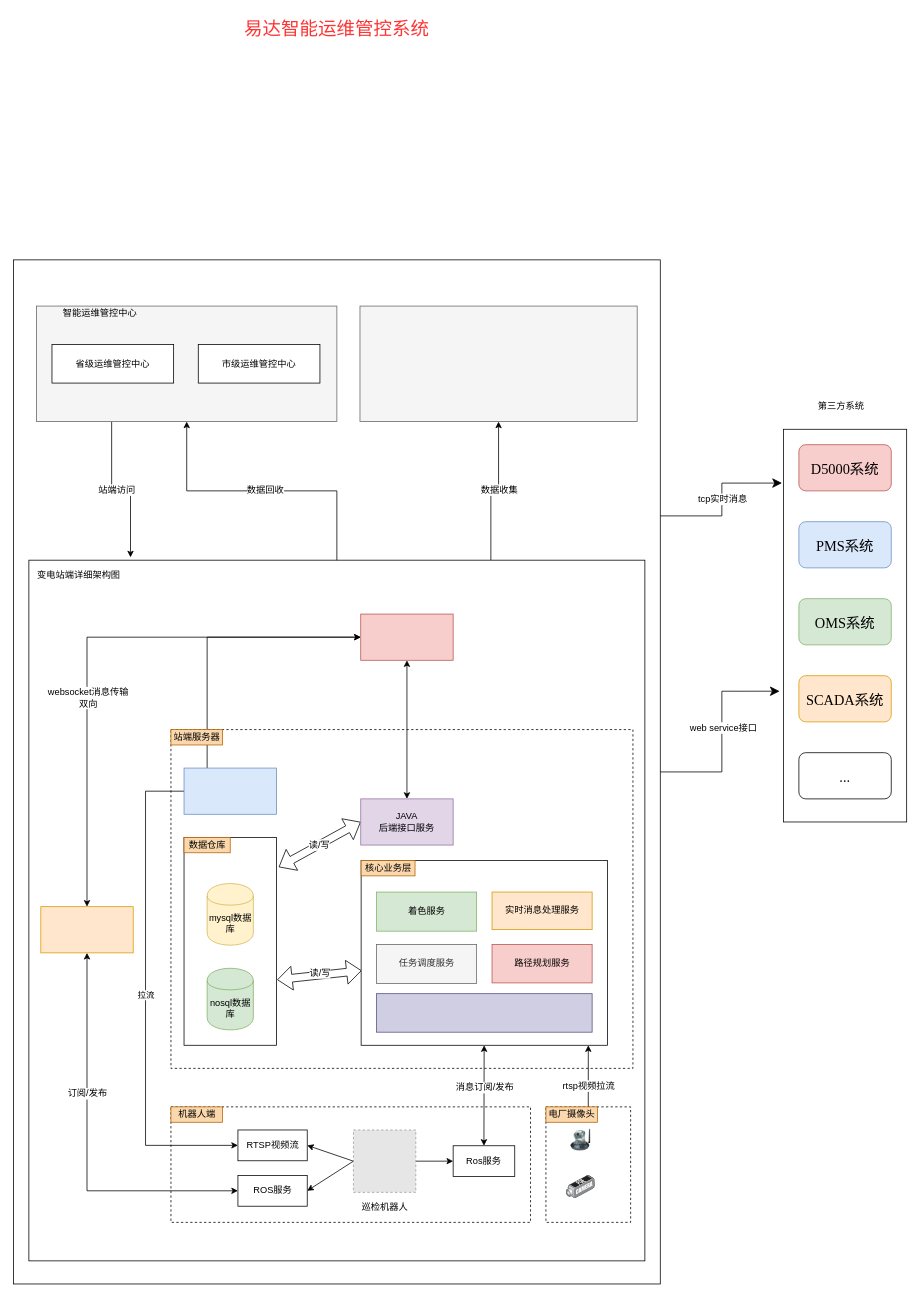
The diagram is 920 pixels wide and 1297 high, and some of its shapes have lost their labels. Grey dashed boxes stand in for pictures. The shapes that lost their labels are listed below. From the top down, each one's centre as x and y in pixels, then its label:
At (498,363): "大数据分析中心".
At (406,636): "前端界面展示".
At (229,790): "RTSP转WebRTC服务".
At (86,929): "ROS转WEBSOCKET服务".
At (484,1012): "电站摄像头报警检测服务".
At (580,1139): "可见光摄像头".
At (580,1186): "红外摄像头".
